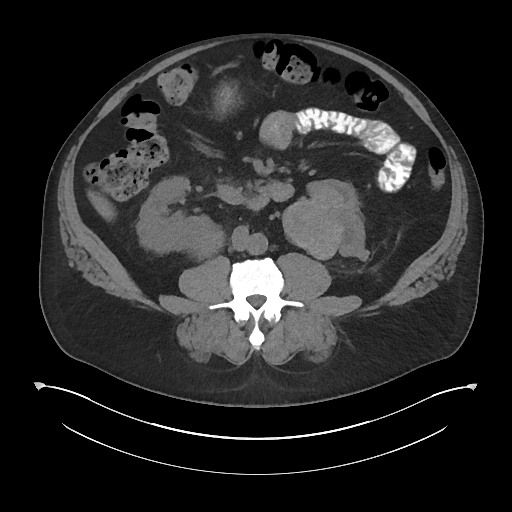Lesion: (284, 200, 347, 263)
